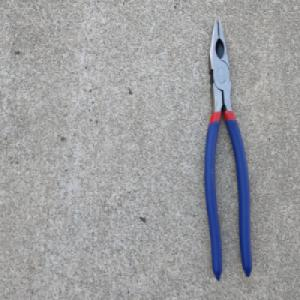Pliers: (202, 15, 253, 282)
